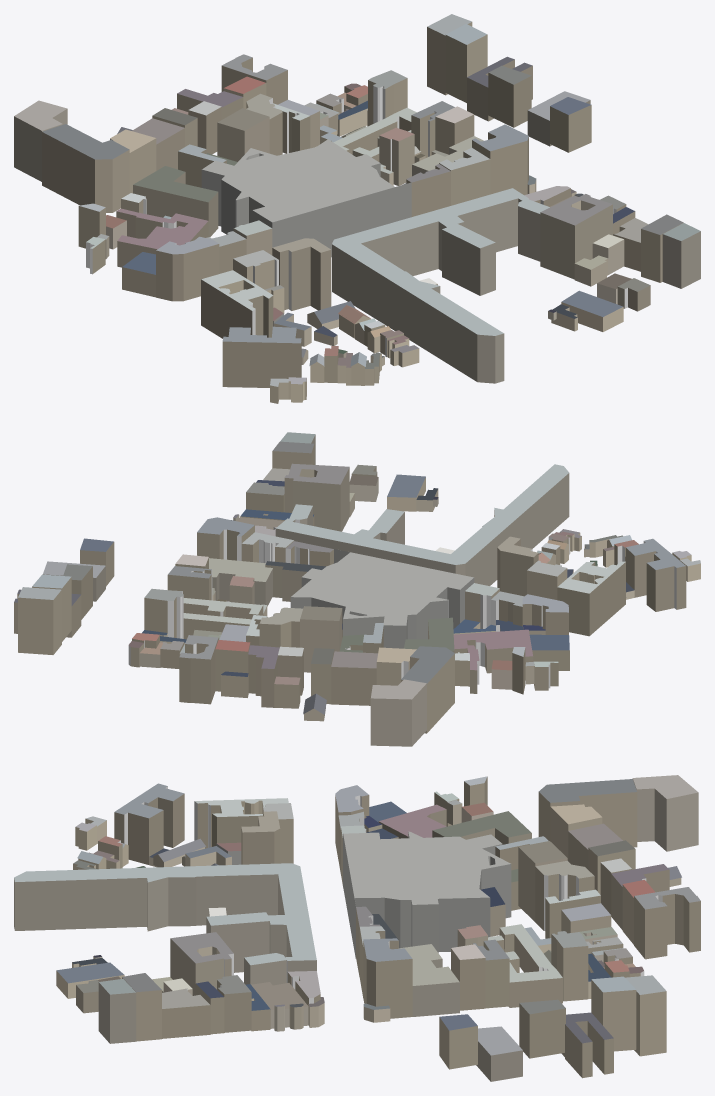
3 renders of one model, top to bottom at view 1: azimuth 30°, elevation 25°; view 2: azimuth 150°, elevation 25°; view 3: azimuth 270°, elevation 25°, orthographic. The views are drawn at different scales.
Visible parts, largest first — view 1: tuile; view 2: tuile; view 3: tuile.
Part boxes in pixels (left/top/right/bottom): tuile: left=14, top=14, right=700, bottom=403; tuile: left=14, top=432, right=700, bottom=746; tuile: left=14, top=775, right=700, bottom=1081.
Bounding box in the file's own units: 270 × 38.95 × 295.
